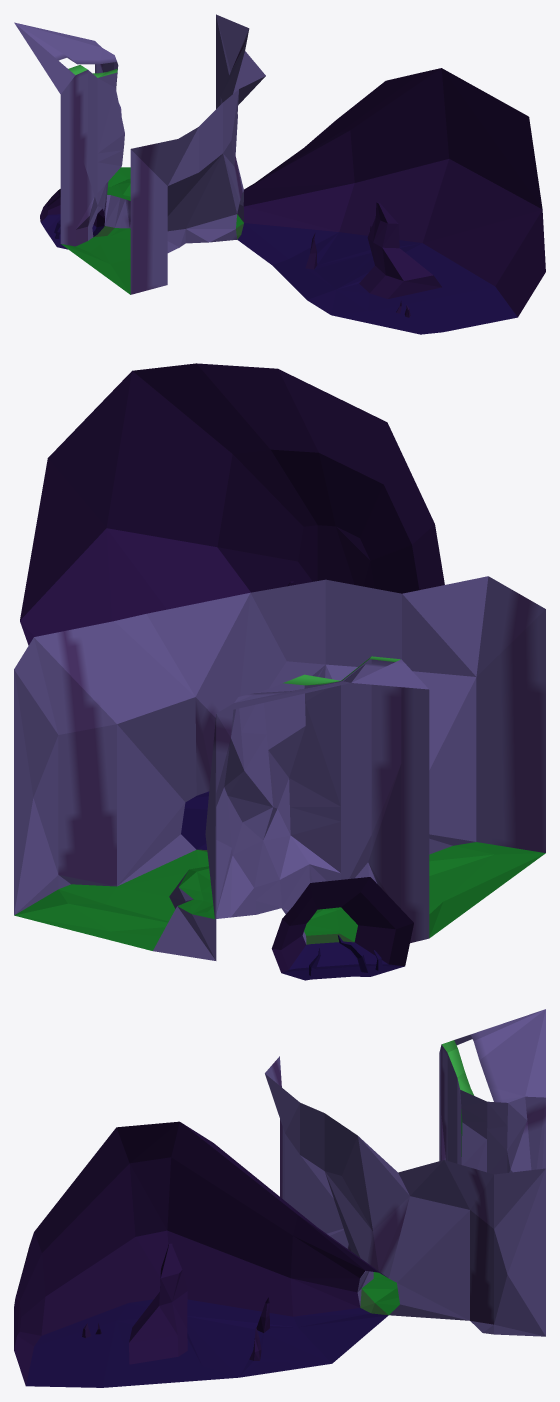
The model's file is Modelo Cueva.fbx.
The picture shows the model from 3 angles, top to bottom: view 1: azimuth 30°, elevation 25°; view 2: azimuth 150°, elevation 25°; view 3: azimuth 270°, elevation 25°; orthographic projection. The views are drawn at different scales.
Visible parts, largest first — view 1: Cueva; view 2: Cueva; view 3: Cueva.
Part boxes in pixels (x1=…): Cueva: x1=14, y1=14, x2=545, y2=334; Cueva: x1=14, y1=363, x2=545, y2=980; Cueva: x1=14, y1=1009, x2=545, y2=1387.
Size of the model in its own units: 33442 by 39982 by 19210.
Materials: 5 (1 with a texture image).
